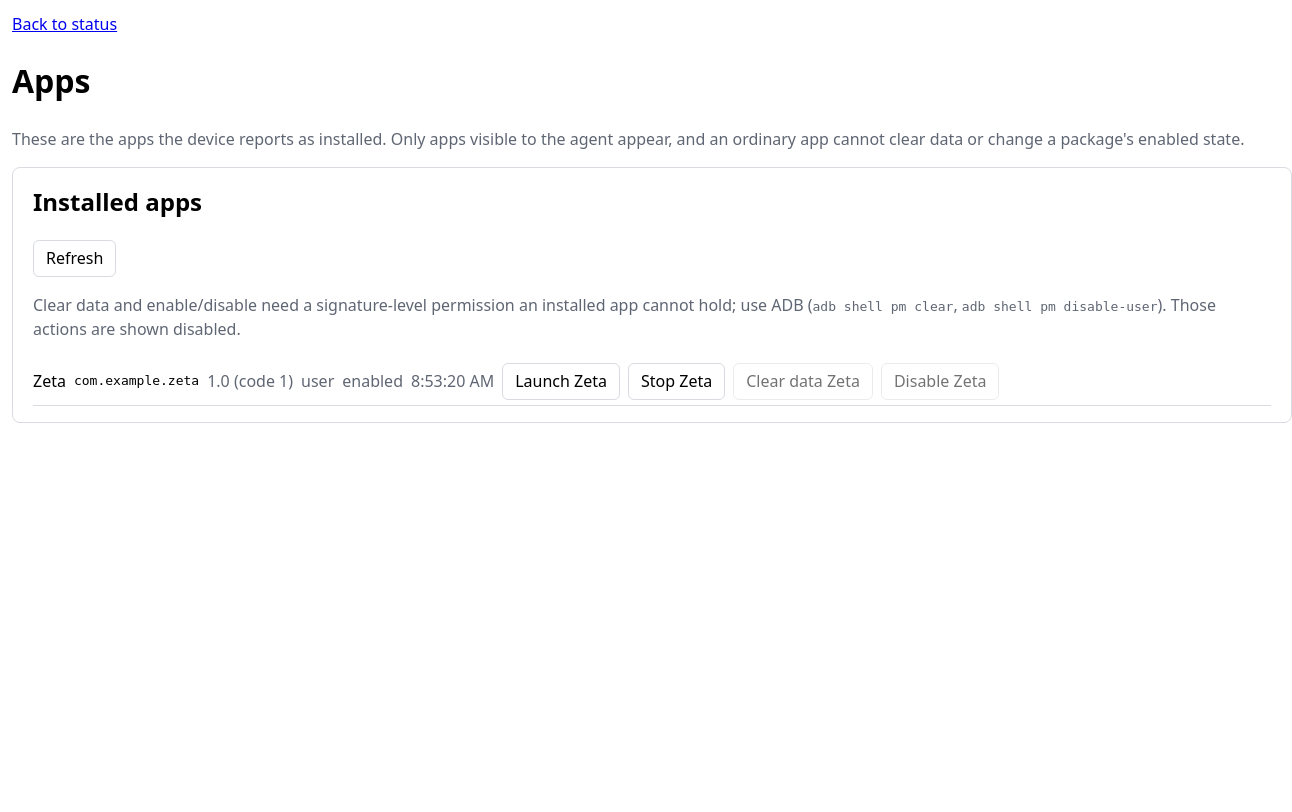
it: the apps screen › renders the device's launch failure with its machine code
What coordinates should you click on to do the following:
click the button "Launch Zeta"
I would click on:
 (561, 381)
Its box is [502,363,620,400].
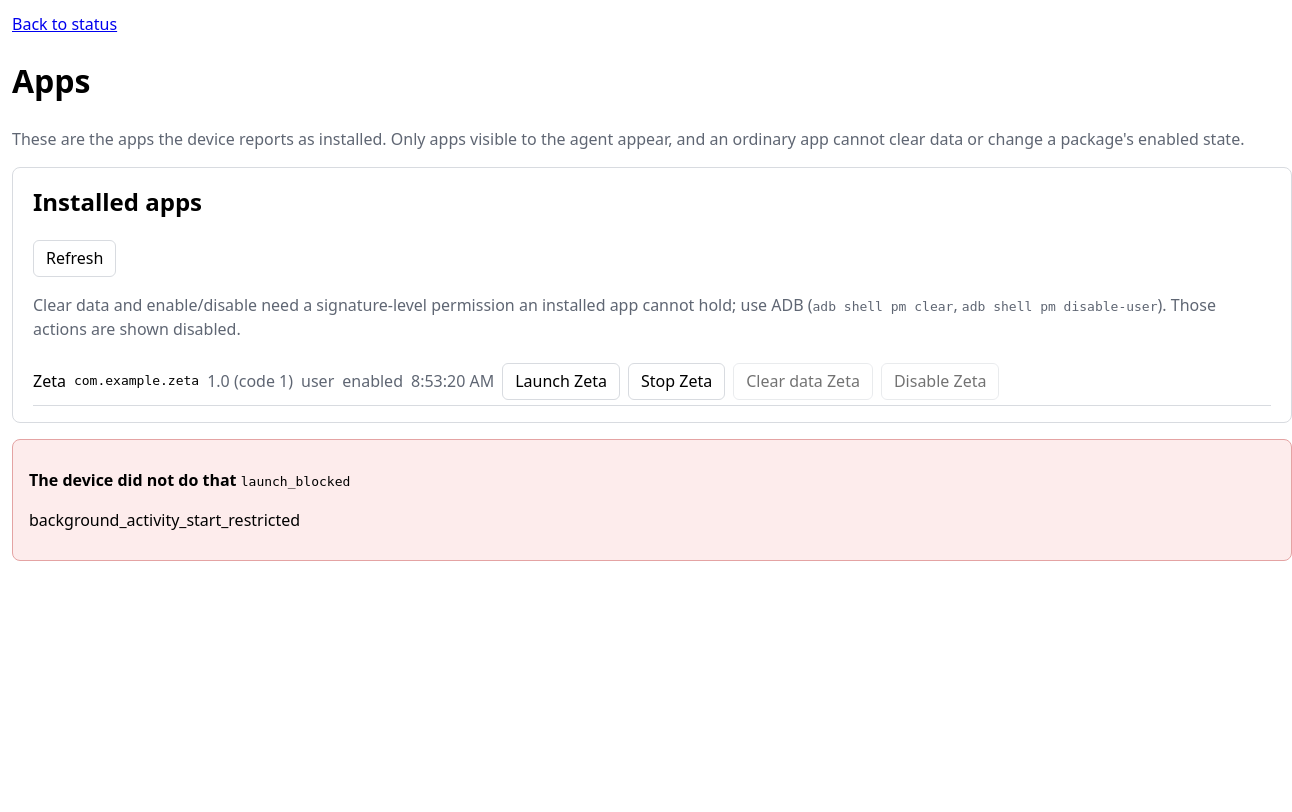
Expected: the message shows "launch_blocked", [241,474,350,489]
Expected: the message shows "background_activity_start_restricted", [29,509,300,531]
